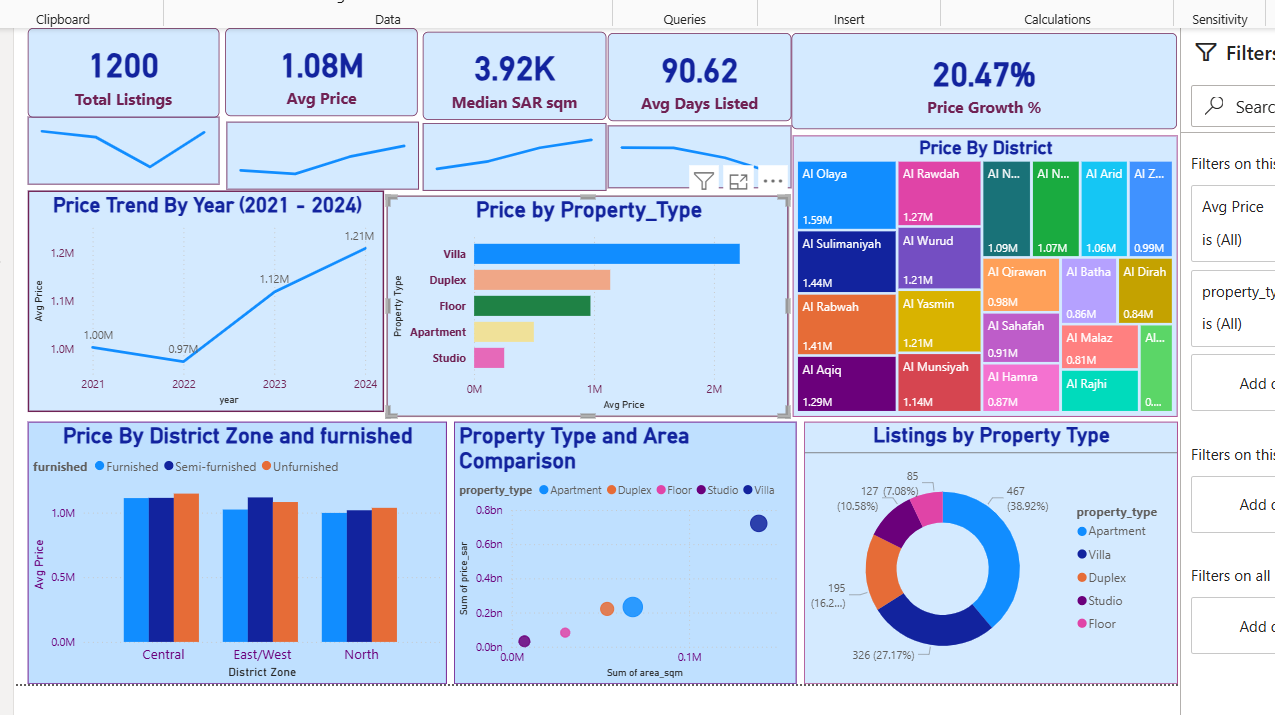

The page's visual inventory and layout, read from the dashboard file:
{"tool":"powerbi","page":{"name":"Page 1","canvas":[1300,900],"ordinal":0},"visuals":[{"type":"card","fields":{"Values":["riyadh_realestate_dataset.Total Listings"]},"box":[14.5,61.9,164.7,98.8],"z":0},{"type":"card","fields":{"Values":["riyadh_realestate_dataset.Avg Price"]},"box":[183.3,61.9,156.4,97.4],"z":1000},{"type":"card","fields":{"Values":["riyadh_realestate_dataset.Median SAR sqm"]},"box":[343.5,65.9,171,93],"z":2000},{"type":"card","fields":{"Values":["riyadh_realestate_dataset.Price Growth %"]},"box":[742.5,66.9,362,126],"z":3000},{"type":"card","fields":{"Values":["riyadh_realestate_dataset.Avg Days Listed"]},"box":[528.5,66.9,207,98],"z":4000},{"type":"lineChart","fields":{"Category":["riyadh_realestate_dataset.year"],"Y":["riyadh_realestate_dataset.Total Listings"]},"box":[15,168,164.7,74.1],"z":5000},{"type":"lineChart","fields":{"Category":["riyadh_realestate_dataset.year"],"Y":["riyadh_realestate_dataset.Avg Price"]},"box":[185.5,167.9,158,74],"z":6000},{"type":"lineChart","fields":{"Category":["riyadh_realestate_dataset.year"],"Y":["riyadh_realestate_dataset.Median SAR sqm"]},"box":[348.5,166.9,166,74],"z":7000},{"type":"lineChart","fields":{"Category":["riyadh_realestate_dataset.year"],"Y":["riyadh_realestate_dataset.Avg Days Listed"]},"box":[523.5,171.9,177,69],"z":8000},{"type":"lineChart","title":"Price Trend By Year (2021 - 2024)","fields":{"Category":["riyadh_realestate_dataset.year"],"Y":["riyadh_realestate_dataset.Avg Price"]},"box":[15,251,329,310],"z":9000},{"type":"barChart","title":"Price by Property_Type","fields":{"Category":["riyadh_realestate_dataset.property_type"],"Y":["riyadh_realestate_dataset.Avg Price"]},"box":[351,251,357,310],"z":10000},{"type":"treemap","title":"Price By District","fields":{"Group":["riyadh_realestate_dataset.district"],"Values":["riyadh_realestate_dataset.Avg Price"]},"box":[706.7,203.3,421.7,356.7],"z":11000},{"type":"donutChart","title":"Listings by Property Type","fields":{"Category":["riyadh_realestate_dataset.property_type"],"Y":["riyadh_realestate_dataset.Total Listings"]},"box":[863.7,564.2,410.3,288.2],"z":12000},{"type":"clusteredColumnChart","title":"Price By District Zone and furnished","fields":{"Category":["riyadh_realestate_dataset.district_zone"],"Y":["riyadh_realestate_dataset.Avg Price"],"Series":["riyadh_realestate_dataset.furnished"]},"box":[11.6,564.2,459.7,288.2],"z":13000},{"type":"scatterChart","title":"Property Type and Area Comparison","fields":{"X":["Sum(riyadh_realestate_dataset.area_sqm)"],"Y":["Sum(riyadh_realestate_dataset.price_sar)"],"Series":["riyadh_realestate_dataset.property_type"],"Category":["riyadh_realestate_dataset.property_type"],"Size":["CountNonNull(riyadh_realestate_dataset.listing_id)"]},"box":[479.5,563.8,376,288.2],"z":14000},{"type":"advancedSlicerVisual","title":"Furnished","fields":{"Values":["riyadh_realestate_dataset.furnished"]},"box":[1133,420,147,140],"z":15000},{"type":"advancedSlicerVisual","title":"District Zone","fields":{"Values":["riyadh_realestate_dataset.district_zone"]},"box":[1135,138,145,124],"z":16000},{"type":"advancedSlicerVisual","title":"Property Type","fields":{"Values":["riyadh_realestate_dataset.property_type"]},"box":[1135,272,145,141],"z":17000},{"type":"advancedSlicerVisual","title":"Year","fields":{"Values":["riyadh_realestate_dataset.year"]},"box":[1135.5,12.7,145,130],"z":18000},{"type":"textbox","box":[11.7,3.3,1116.7,63.3],"z":18001}]}

Visuals, with their boxes on the page's 1300x900 design canvas (x1, y1, x2, y2). These are canvas units, not pixel positions in the 1275x715 screenshot, which may show the page scaled, cropped or inside an application window:
card - riyadh_realestate_dataset.Total Listings: rect(14, 62, 179, 161)
card - riyadh_realestate_dataset.Avg Price: rect(183, 62, 340, 159)
card - riyadh_realestate_dataset.Median SAR sqm: rect(344, 66, 514, 159)
card - riyadh_realestate_dataset.Price Growth %: rect(742, 67, 1104, 193)
card - riyadh_realestate_dataset.Avg Days Listed: rect(528, 67, 736, 165)
lineChart - riyadh_realestate_dataset.year x riyadh_realestate_dataset.Total Listings: rect(15, 168, 180, 242)
lineChart - riyadh_realestate_dataset.year x riyadh_realestate_dataset.Avg Price: rect(186, 168, 344, 242)
lineChart - riyadh_realestate_dataset.year x riyadh_realestate_dataset.Median SAR sqm: rect(348, 167, 514, 241)
lineChart - riyadh_realestate_dataset.year x riyadh_realestate_dataset.Avg Days Listed: rect(524, 172, 700, 241)
"Price Trend By Year (2021 - 2024)" lineChart: rect(15, 251, 344, 561)
"Price by Property_Type" barChart: rect(351, 251, 708, 561)
"Price By District" treemap: rect(707, 203, 1128, 560)
"Listings by Property Type" donutChart: rect(864, 564, 1274, 852)
"Price By District Zone and furnished" clusteredColumnChart: rect(12, 564, 471, 852)
"Property Type and Area Comparison" scatterChart: rect(480, 564, 856, 852)
"Furnished" advancedSlicerVisual: rect(1133, 420, 1280, 560)
"District Zone" advancedSlicerVisual: rect(1135, 138, 1280, 262)
"Property Type" advancedSlicerVisual: rect(1135, 272, 1280, 413)
"Year" advancedSlicerVisual: rect(1136, 13, 1280, 143)
textbox: rect(12, 3, 1128, 67)
